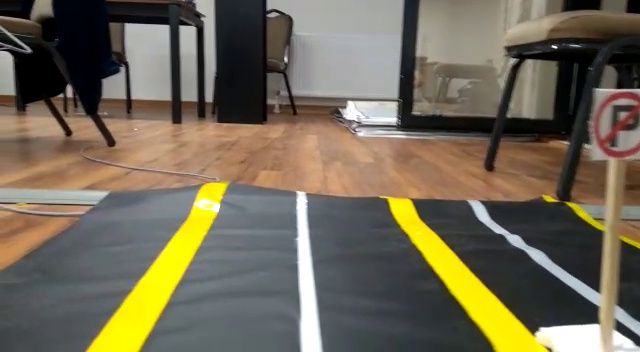park_yapilmaz: (591, 90, 640, 159)
